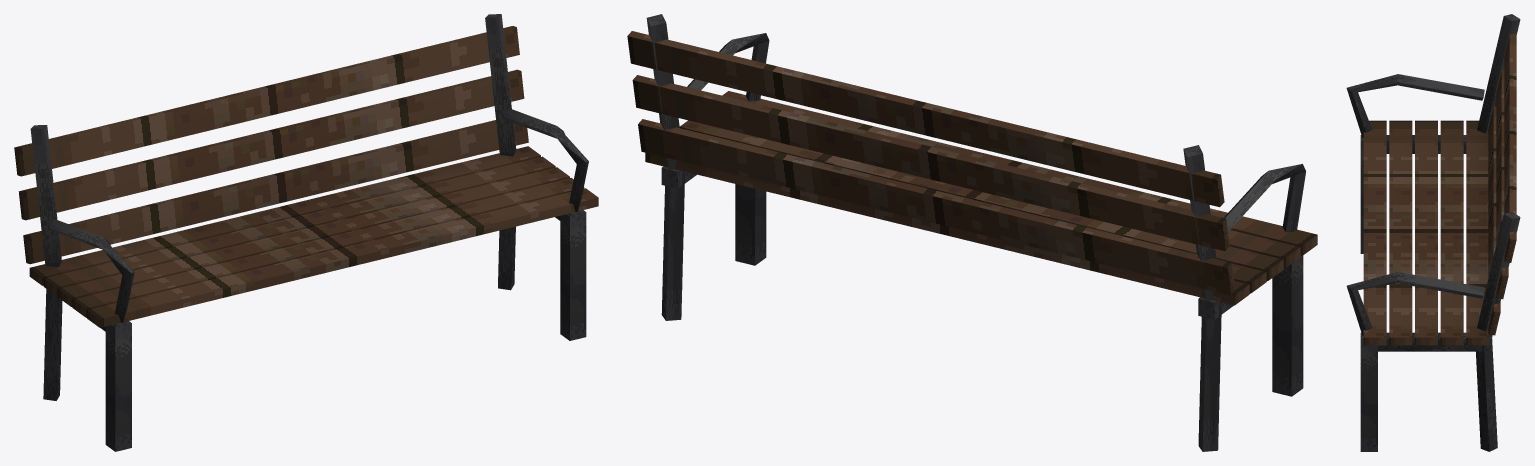
Rendered from bench_park.glb.
The picture shows the model from 3 angles, left to right: view 1: azimuth 30°, elevation 25°; view 2: azimuth 150°, elevation 25°; view 3: azimuth 270°, elevation 25°; orthographic projection. The views are drawn at different scales.
Parts seen in each view (by area): view 1: bench_park; view 2: bench_park; view 3: bench_park.
Part boxes in pixels (x1,y1,x2,y2): bench_park: (14,14,598,451); bench_park: (627,14,1317,451); bench_park: (1346,14,1520,451).
Size of the model in its own units: 1.8 by 0.9076 by 0.6095.
1 material, 1 textured.
